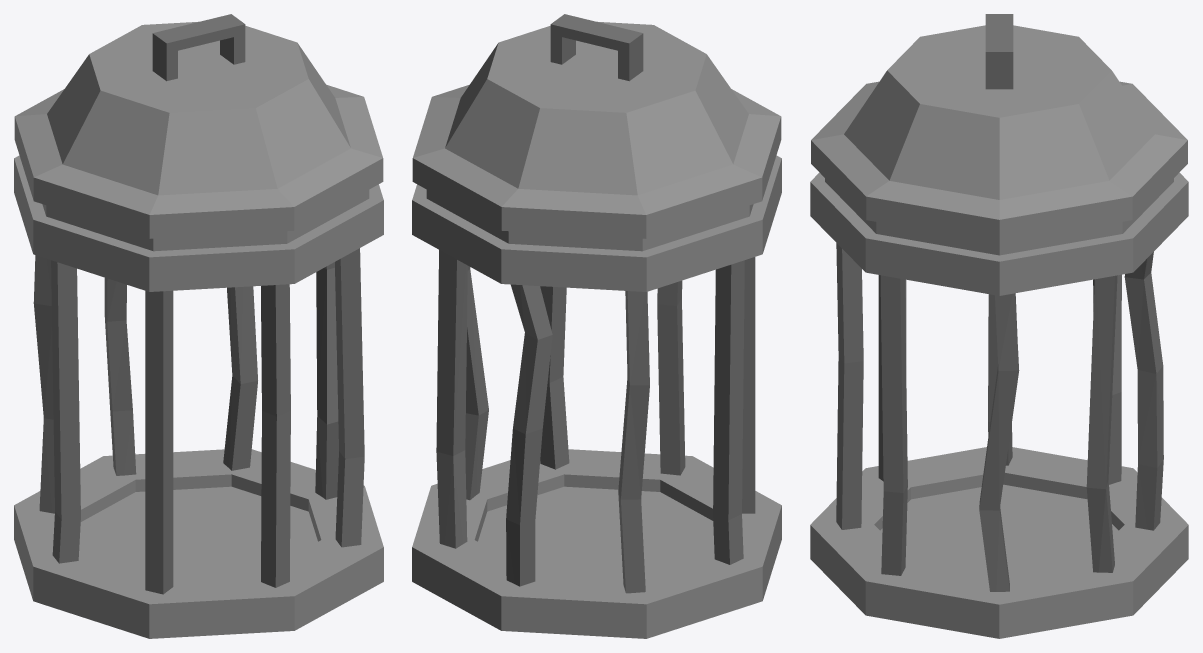
The model's file is LPCP_Cage03.fbx.
The picture shows the model from 3 angles, left to right: view 1: azimuth 30°, elevation 25°; view 2: azimuth 150°, elevation 25°; view 3: azimuth 270°, elevation 25°; orthographic projection.
Visible parts, largest first — view 1: LPCP_Cage03; view 2: LPCP_Cage03; view 3: LPCP_Cage03.
Boxes of the visible parts, x1,y1,x2,y2 form: LPCP_Cage03: [14, 14, 383, 638]; LPCP_Cage03: [412, 14, 781, 638]; LPCP_Cage03: [810, 14, 1188, 638].
Bounding box in the file's own units: 2 × 3.07 × 2.
